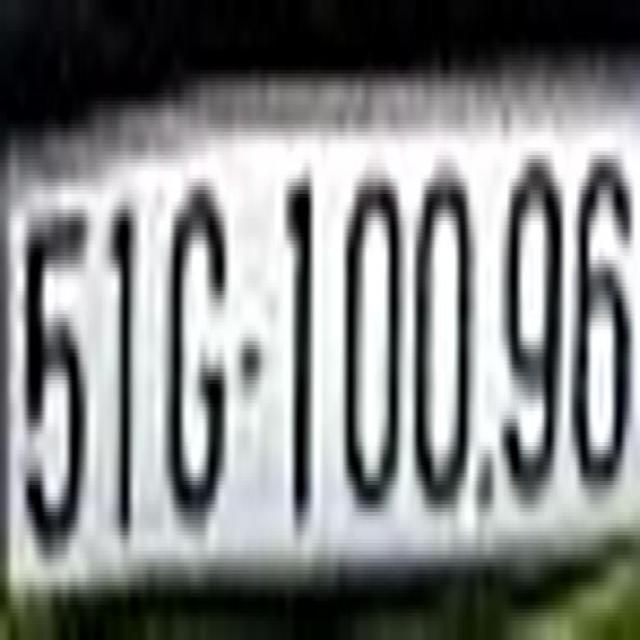0: (340, 178, 397, 496), (418, 178, 468, 512)
1: (285, 155, 316, 520), (109, 178, 137, 520)
5: (26, 198, 87, 539)
6: (581, 155, 629, 493)
9: (506, 159, 562, 504)
G: (166, 182, 226, 516)
